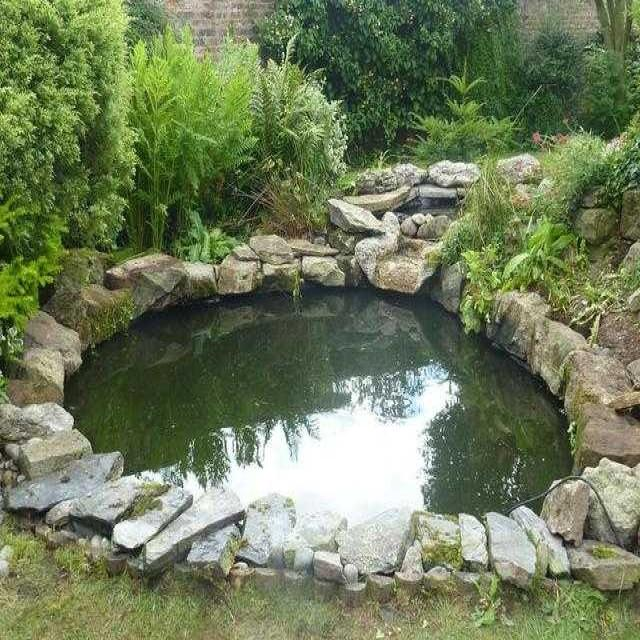Ponds: (5, 154, 640, 600)
